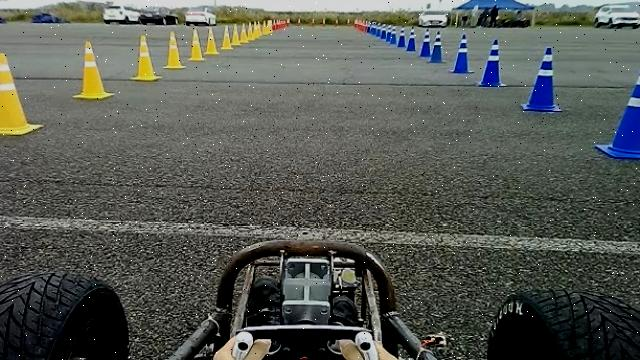blue cone: (595, 63, 640, 159), (522, 46, 562, 112), (478, 38, 508, 87), (448, 33, 474, 74), (426, 29, 446, 63)
yellow cone: (0, 51, 44, 135), (73, 40, 116, 99), (130, 34, 162, 80), (163, 30, 186, 69), (188, 28, 206, 61)
